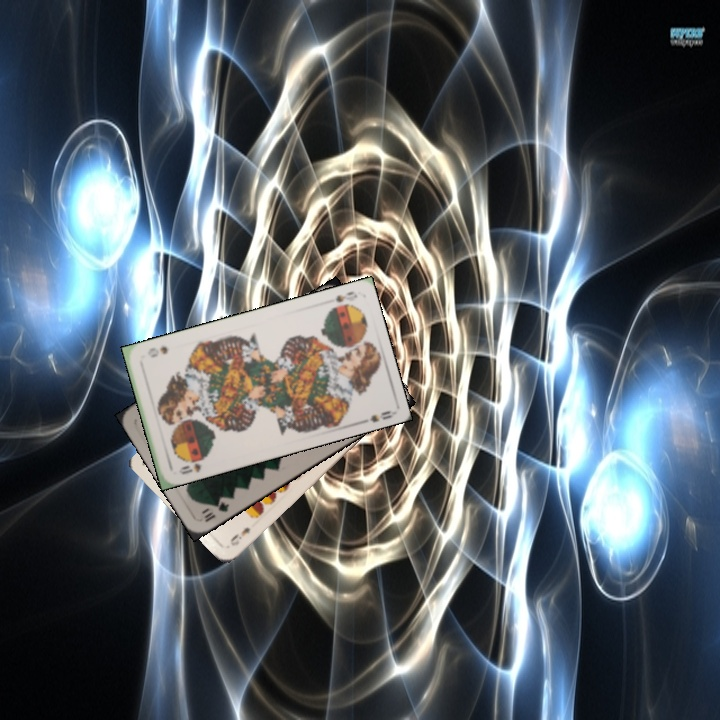E9: (226, 523, 253, 549)
G10: (200, 497, 232, 525)
SO: (175, 459, 204, 477), (332, 287, 360, 305)
